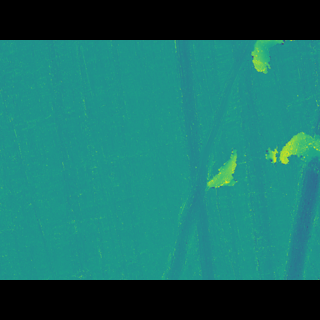Loch: (157, 69, 258, 251), (277, 159, 319, 250), (262, 136, 320, 168), (198, 149, 243, 184), (239, 68, 294, 96)
